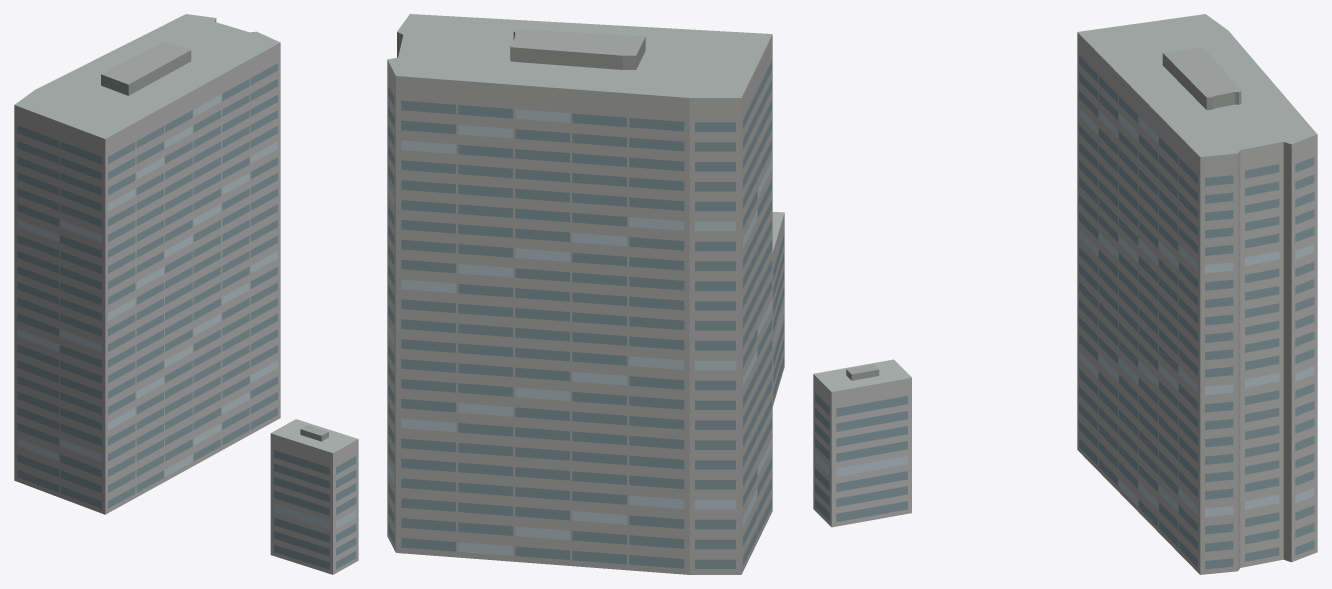
File: apt-a10026162.glb
The picture shows the model from 3 angles, left to right: view 1: azimuth 30°, elevation 25°; view 2: azimuth 150°, elevation 25°; view 3: azimuth 270°, elevation 25°; orthographic projection. The views are drawn at different scales.
Visible parts, largest first — view 1: apt-a10026162; view 2: apt-a10026162; view 3: apt-a10026162.
Part boxes in pixels (x1,y1,x2,y2): apt-a10026162: (14, 14, 358, 574); apt-a10026162: (387, 14, 784, 574); apt-a10026162: (813, 14, 1317, 574).
Size of the model in its own units: 58.47 by 82 by 87.03.
